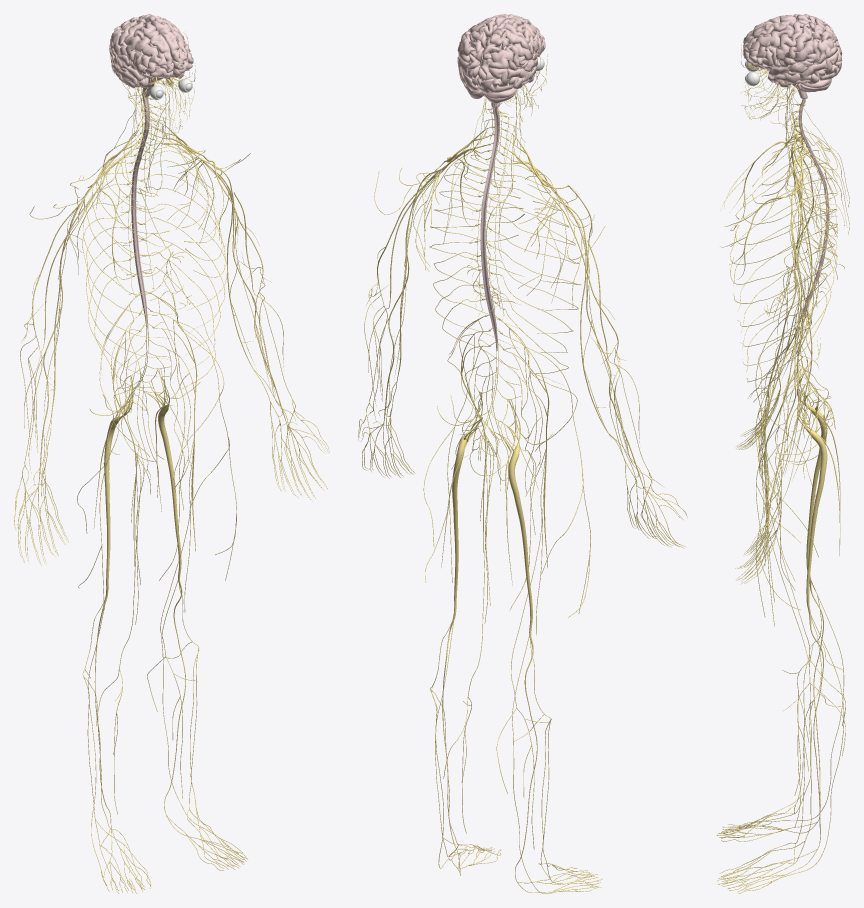
Rendered from nerfs.glb.
The picture shows the model from 3 angles, left to right: view 1: azimuth 30°, elevation 25°; view 2: azimuth 150°, elevation 25°; view 3: azimuth 270°, elevation 25°; orthographic projection. The views are drawn at different scales.
Visible parts, largest first — view 1: Intercostal nerves.r, Intercostal nerves.l, Sciatic nerve.r, Sciatic nerve.l, Anterior fasciculus proprius; view 2: Intercostal nerves.l, Intercostal nerves.r, Sciatic nerve.r, Posterior fasciculus proprius, Sciatic nerve.l, Saphenous nerve.r; view 3: Intercostal nerves.l, Intercostal nerves.r, Sciatic nerve.l, Lateral fasciculus proprius, Sciatic nerve.r, Middle frontal gyrus.l, Saphenous nerve.l, Lateral femoral cutaneous nerve.l, Median nerve.l, Saphenous nerve.r, Middle temporal gyrus.l, Precentral gyrus.l (+17 smaller).
Boxes of the visible parts, left/top/right/bottom form: Intercostal nerves.r: left=82, top=148, right=173, bottom=392; Intercostal nerves.l: left=141, top=143, right=227, bottom=389; Sciatic nerve.r: left=104, top=376, right=132, bottom=595; Sciatic nerve.l: left=147, top=369, right=181, bottom=577; Anterior fasciculus proprius: left=133, top=96, right=149, bottom=335; Intercostal nerves.l: left=429, top=154, right=524, bottom=369; Intercostal nerves.r: left=491, top=163, right=581, bottom=373; Sciatic nerve.r: left=495, top=399, right=532, bottom=632; Posterior fasciculus proprius: left=480, top=107, right=498, bottom=350; Sciatic nerve.l: left=452, top=393, right=481, bottom=613; Saphenous nerve.r: left=496, top=452, right=545, bottom=849; Intercostal nerves.l: left=730, top=153, right=837, bottom=382; Intercostal nerves.r: left=730, top=140, right=837, bottom=371; Sciatic nerve.l: left=797, top=384, right=827, bottom=612; Lateral fasciculus proprius: left=798, top=99, right=829, bottom=330; Sciatic nerve.r: left=797, top=371, right=827, bottom=577; Middle frontal gyrus.l: left=745, top=29, right=793, bottom=62; Saphenous nerve.l: left=761, top=453, right=845, bottom=827; Lateral femoral cutaneous nerve.l: left=755, top=340, right=818, bottom=617; Median nerve.l: left=769, top=198, right=802, bottom=508; Saphenous nerve.r: left=761, top=423, right=845, bottom=795; Middle temporal gyrus.l: left=773, top=60, right=828, bottom=83; Precentral gyrus.l: left=776, top=21, right=804, bottom=62.
Bounding box in the file's own units: 0.6675 × 1.69 × 0.2426.
